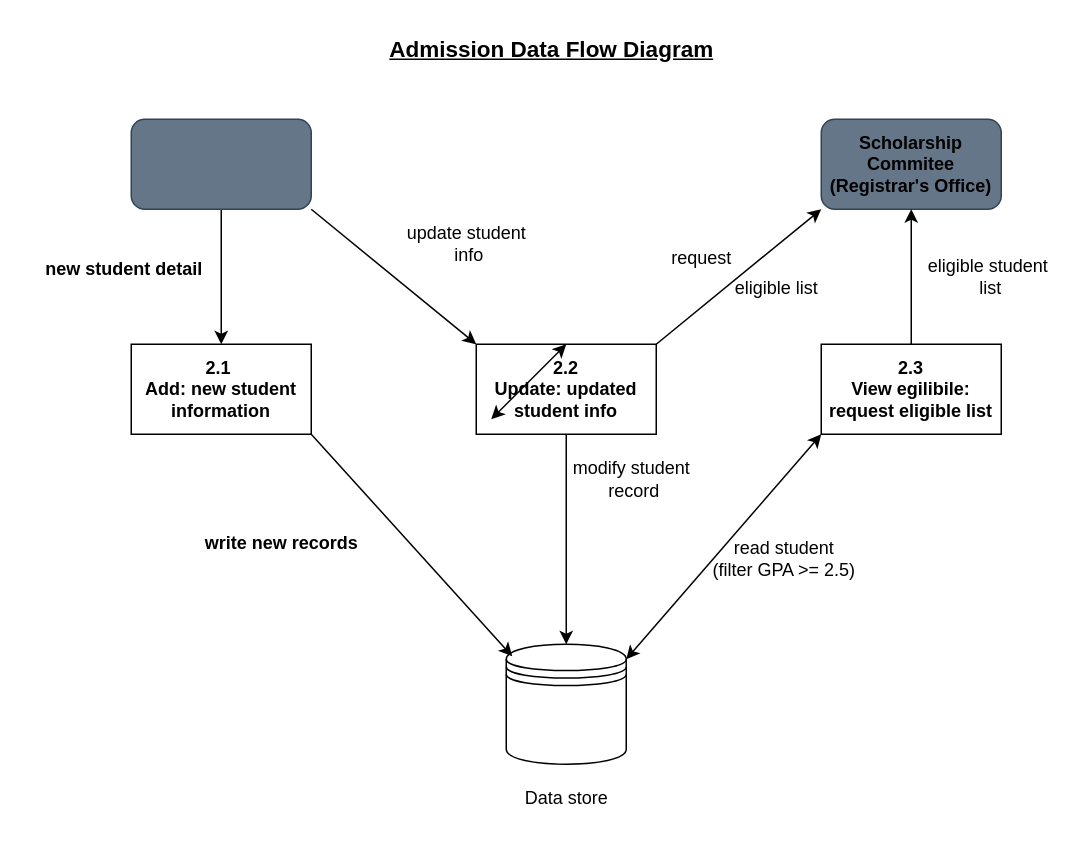
Some shapes in this 1088 by 846 pixel diagram are drawn without their labels. Each missing label, with the centre of its shape:
"Admission Officer (Registrar's Office)" belongs at [220,163].
"D4 Student Info" belongs at [565,703].
